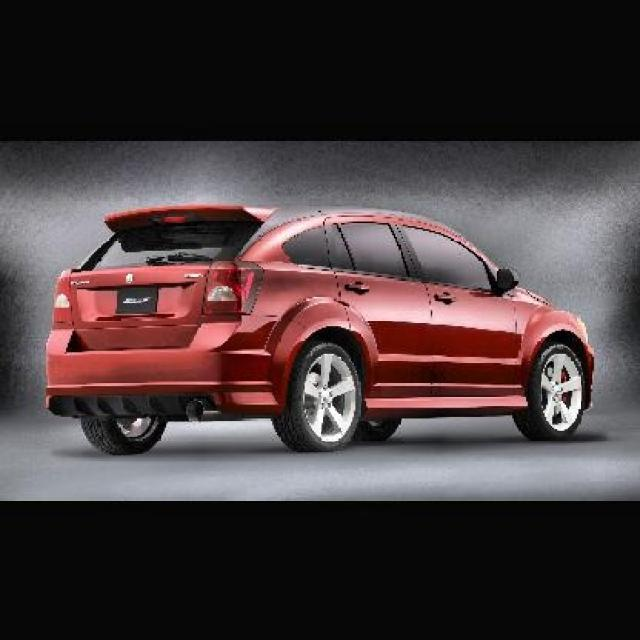maroon: (44, 203, 592, 451)
